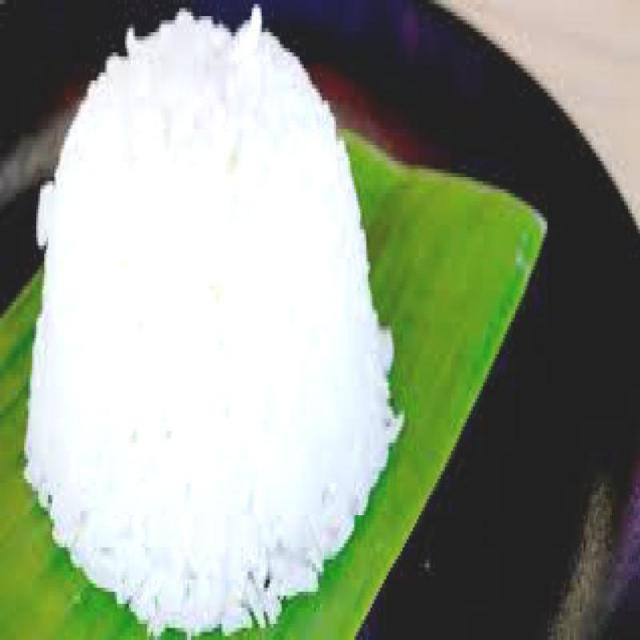rice: (24, 14, 393, 636)
